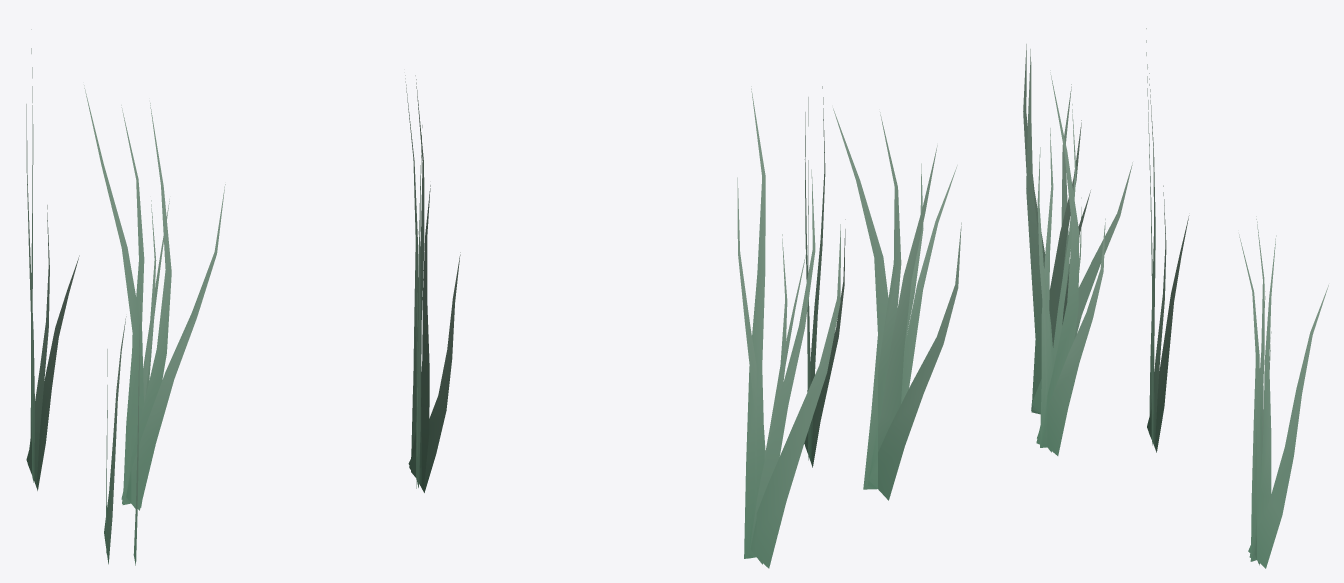
File: mesh-plant-022-peacock-fan_LOD1.glb
3 views of the same model, side by side, from view 1: azimuth 30°, elevation 25°; view 2: azimuth 150°, elevation 25°; view 3: azimuth 270°, elevation 25° (orthographic). The views are drawn at different scales.
Visible parts, largest first — view 1: geometry_0; view 2: geometry_0; view 3: geometry_0.
Boxes of the visible parts, <box> form: geometry_0: <box>26,29,225,565</box>; geometry_0: <box>405,75,961,568</box>; geometry_0: <box>1023,28,1328,568</box>.
Bounding box in the file's own units: 1.59 × 1.67 × 1.23.
